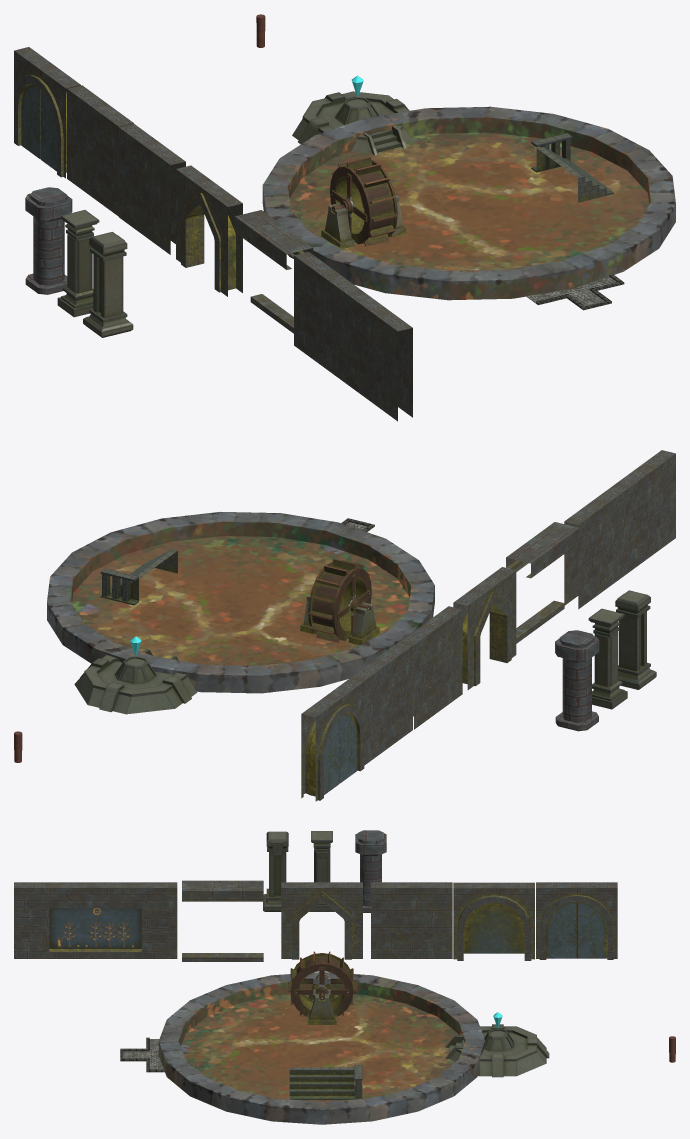
The model's file is LCN_ENV_PAK_0.fbx.
3 renders of one model, top to bottom at view 1: azimuth 30°, elevation 25°; view 2: azimuth 150°, elevation 25°; view 3: azimuth 270°, elevation 25°, orthographic. The views are drawn at different scales.
Visible parts, largest first — view 1: OBJ_POT, OBJ_WAL_DOUBLE, OBJ_WAL_A_STR, OBJ_WAL_A_ARC, OBJ_WATERMILL_MILL, OBJ_RELIC_CORE, OBJ_WAL_PILLAR_A, OBJ_WAL_PILLAR_C, OBJ_WAL_A_DOOR_A, OBJ_WAL_A_DOOR_B, OBJ_WAL_PILLAR_B, OBJ_DOOR_A_FRAME (+6 smaller); view 2: OBJ_POT, OBJ_WAL_DOUBLE, OBJ_RELIC_CORE, OBJ_WAL_A_STR, OBJ_WAL_A_ARC, OBJ_WATERMILL_MILL, OBJ_WAL_A_DOOR_B, OBJ_WAL_PILLAR_A, OBJ_WAL_PILLAR_C, OBJ_WAL_A_DOOR_A, OBJ_WAL_PILLAR_B, OBJ_DOOR_A_FRAME (+6 smaller); view 3: OBJ_POT, OBJ_WAL_DOUBLE, OBJ_WAL_A_STR, OBJ_WAL_A_ARC, OBJ_RELIC_CORE, OBJ_WAL_A_DOOR_B, OBJ_WAL_A_DOOR_A, OBJ_WATERMILL_MILL, OBJ_STAIRS, OBJ_CURB_TOP, OBJ_WAL_A_DOOR_B_PLTA, OBJ_WAL_PILLAR_A (+6 smaller).
Part boxes in pixels (box(x1,y1,x2,y2)): OBJ_POT: box(262, 106, 675, 300); OBJ_WAL_DOUBLE: box(294, 252, 412, 421); OBJ_WAL_A_STR: box(119, 123, 185, 254); OBJ_WAL_A_ARC: box(67, 85, 133, 216); OBJ_WATERMILL_MILL: box(330, 157, 397, 246); OBJ_RELIC_CORE: box(292, 91, 410, 155); OBJ_WAL_PILLAR_A: box(25, 187, 72, 294); OBJ_WAL_PILLAR_C: box(83, 232, 133, 337); OBJ_WAL_A_DOOR_A: box(176, 165, 242, 296); OBJ_WAL_A_DOOR_B: box(14, 47, 80, 178); OBJ_WAL_PILLAR_B: box(57, 210, 99, 317); OBJ_DOOR_A_FRAME: box(181, 193, 235, 292); OBJ_POT: box(47, 511, 434, 693); OBJ_WAL_DOUBLE: box(564, 450, 675, 609); OBJ_RELIC_CORE: box(74, 649, 197, 714); OBJ_WAL_A_STR: box(400, 606, 462, 729); OBJ_WAL_A_ARC: box(350, 642, 412, 765); OBJ_WATERMILL_MILL: box(308, 559, 371, 643); OBJ_WAL_A_DOOR_B: box(301, 678, 364, 801); OBJ_WAL_PILLAR_A: box(555, 630, 599, 731); OBJ_WAL_PILLAR_C: box(615, 590, 656, 689); OBJ_WAL_A_DOOR_A: box(453, 567, 516, 689); OBJ_WAL_PILLAR_B: box(588, 608, 627, 709); OBJ_DOOR_A_FRAME: box(462, 592, 511, 686); OBJ_POT: box(158, 972, 485, 1124); OBJ_WAL_DOUBLE: box(14, 882, 177, 958); OBJ_WAL_A_STR: box(371, 882, 452, 958); OBJ_WAL_A_ARC: box(453, 882, 534, 960); OBJ_RELIC_CORE: box(445, 1024, 549, 1077); OBJ_WAL_A_DOOR_B: box(536, 882, 617, 959); OBJ_WAL_A_DOOR_A: box(281, 882, 362, 958); OBJ_WATERMILL_MILL: box(287, 951, 356, 1016); OBJ_STAIRS: box(289, 1065, 362, 1100); OBJ_CURB_TOP: box(182, 880, 263, 901); OBJ_WAL_A_DOOR_B_PLTA: box(576, 902, 607, 958); OBJ_WAL_PILLAR_A: box(355, 830, 386, 912).
Size of the model in its own units: 81.76 by 12.37 by 102.
